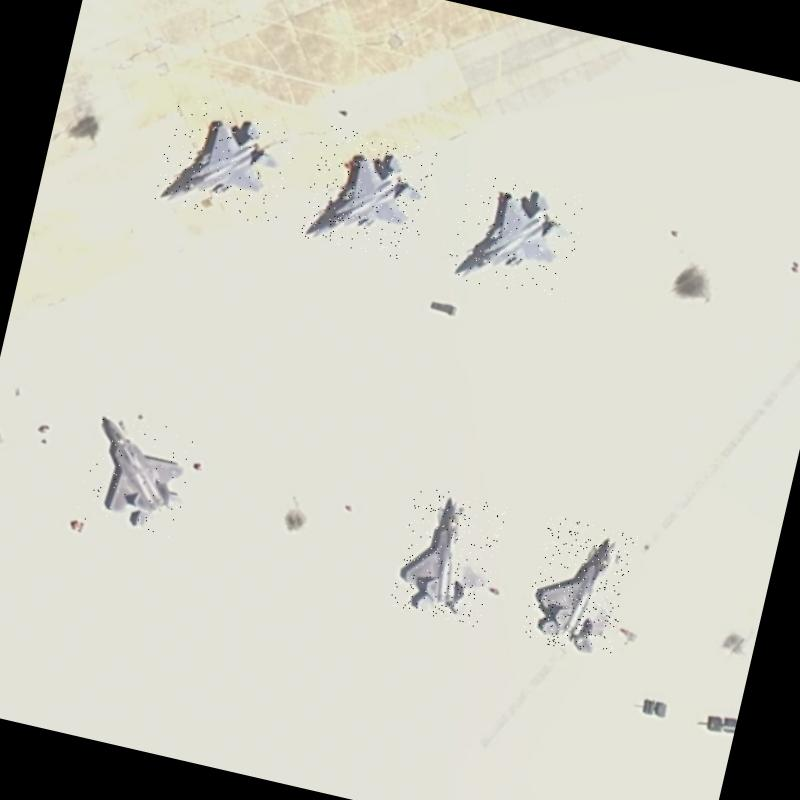A13: (152, 95, 300, 230), (444, 167, 588, 304), (298, 124, 438, 262)
A15: (73, 403, 199, 540), (388, 484, 507, 628), (520, 514, 638, 658)
